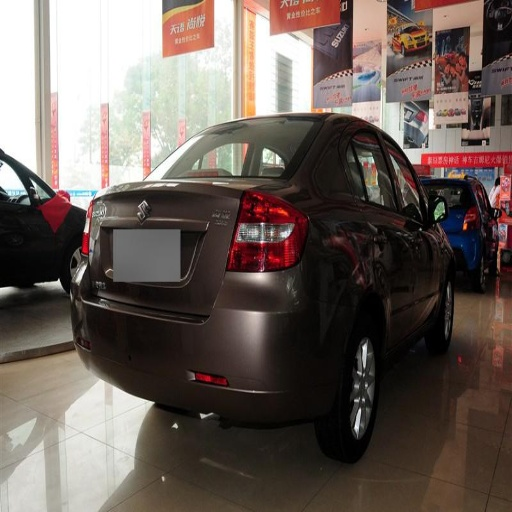back_bumper: (74, 262, 351, 438)
back_right_door: (340, 124, 409, 333)
tailgate: (92, 172, 244, 312)
trunk: (91, 242, 158, 303)
